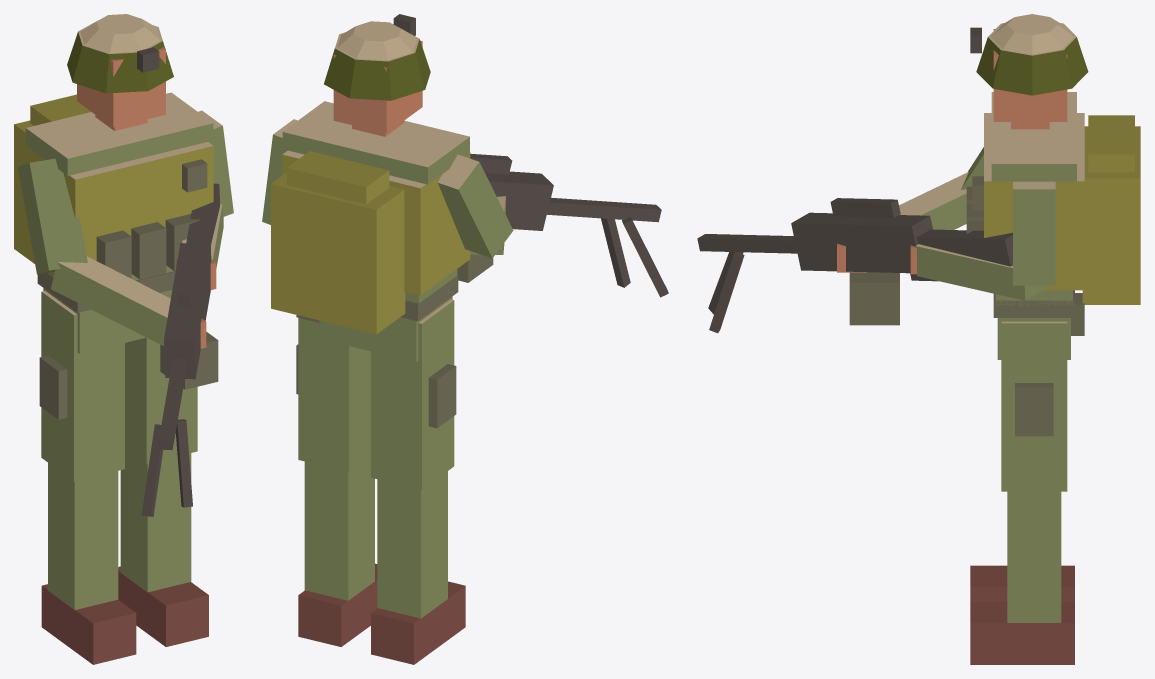
File: SM_SoldadoArmado_v3_MG4E_Reposo_LOD0.fbx
3 views of the same model, side by side, from view 1: azimuth 30°, elevation 25°; view 2: azimuth 150°, elevation 25°; view 3: azimuth 270°, elevation 25° (orthographic).
Parts seen in each view (by area): view 1: SM_bloques.soldado_armado_v3_LOD0; view 2: SM_bloques.soldado_armado_v3_LOD0; view 3: SM_bloques.soldado_armado_v3_LOD0.
Boxes of the visible parts, left/top/right/bottom form: SM_bloques.soldado_armado_v3_LOD0: left=14, top=14, right=233, bottom=664; SM_bloques.soldado_armado_v3_LOD0: left=262, top=14, right=668, bottom=664; SM_bloques.soldado_armado_v3_LOD0: left=697, top=14, right=1140, bottom=664.
Size of the model in its own units: 0.7228 by 1.75 by 1.15.
